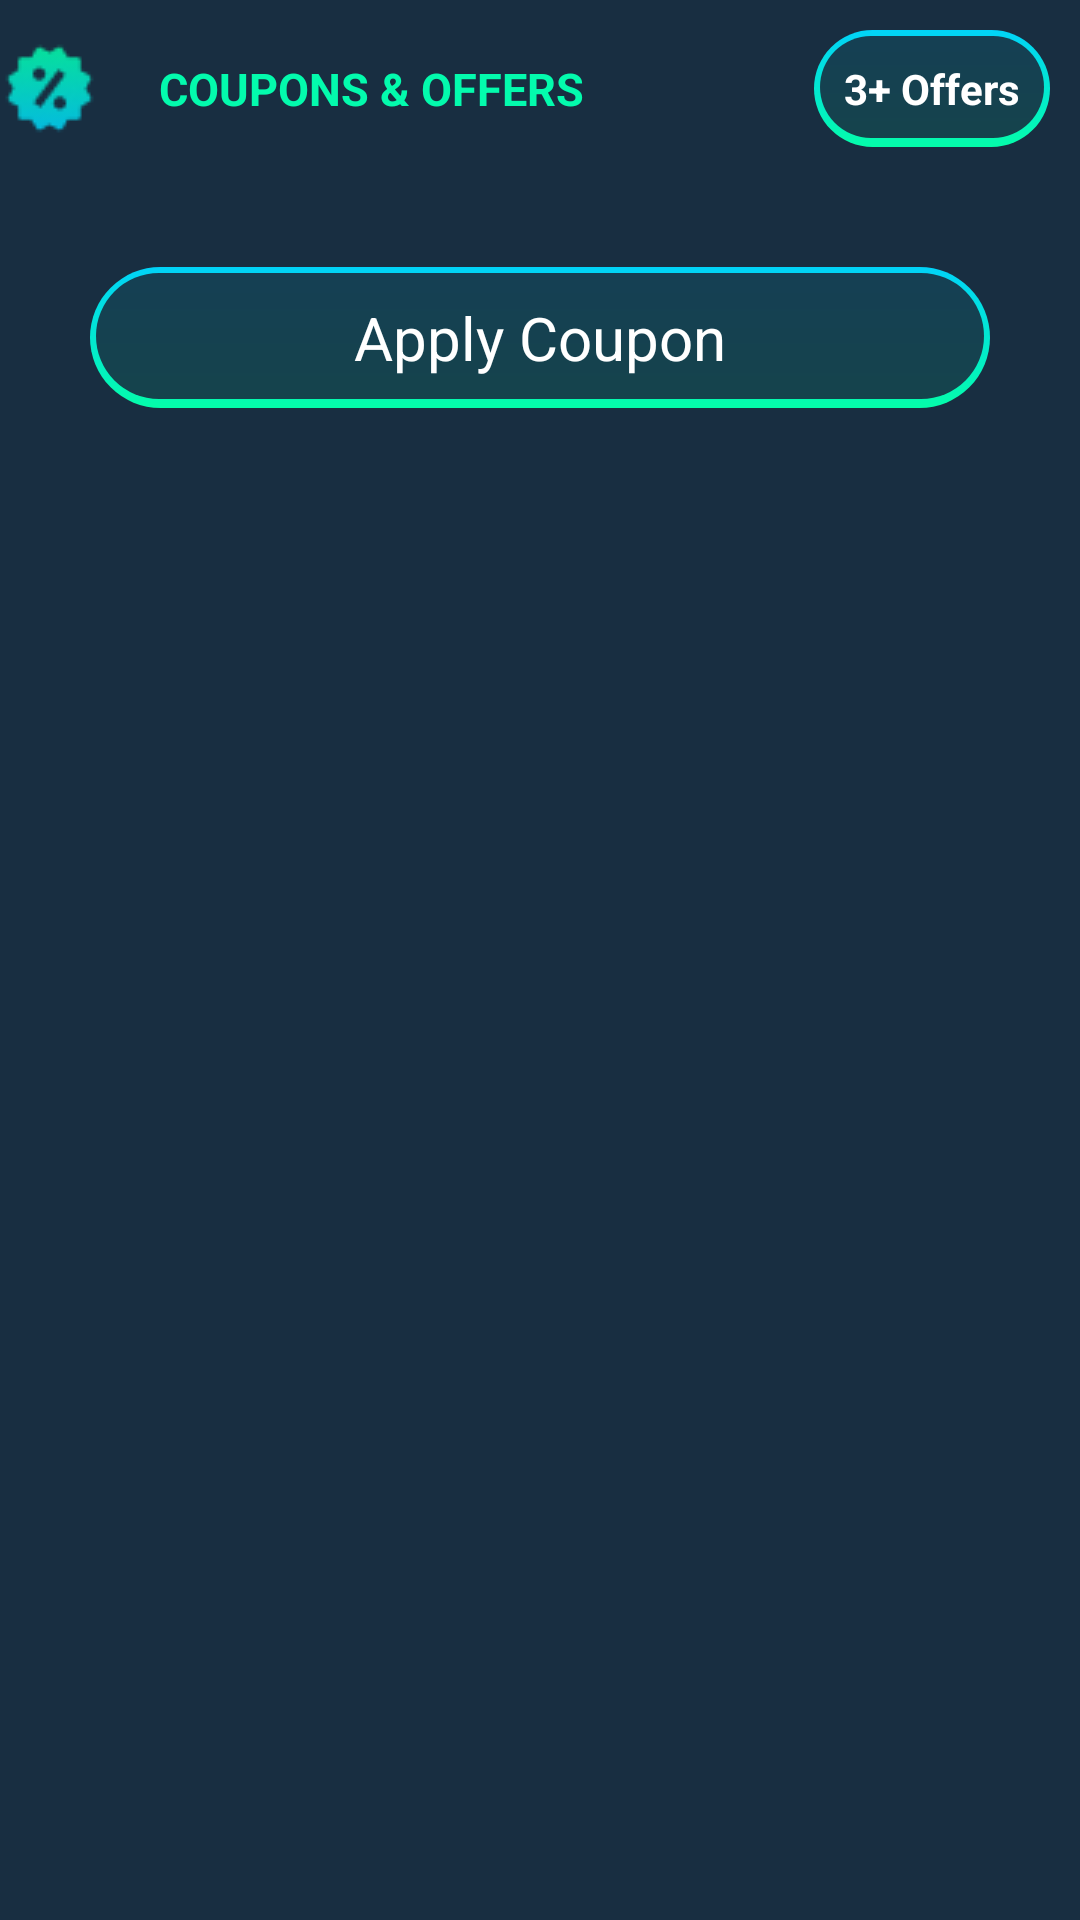

Icon click points for this 1080 × 1920 phone screenshot, format (x,y):
discount: (49,88)
